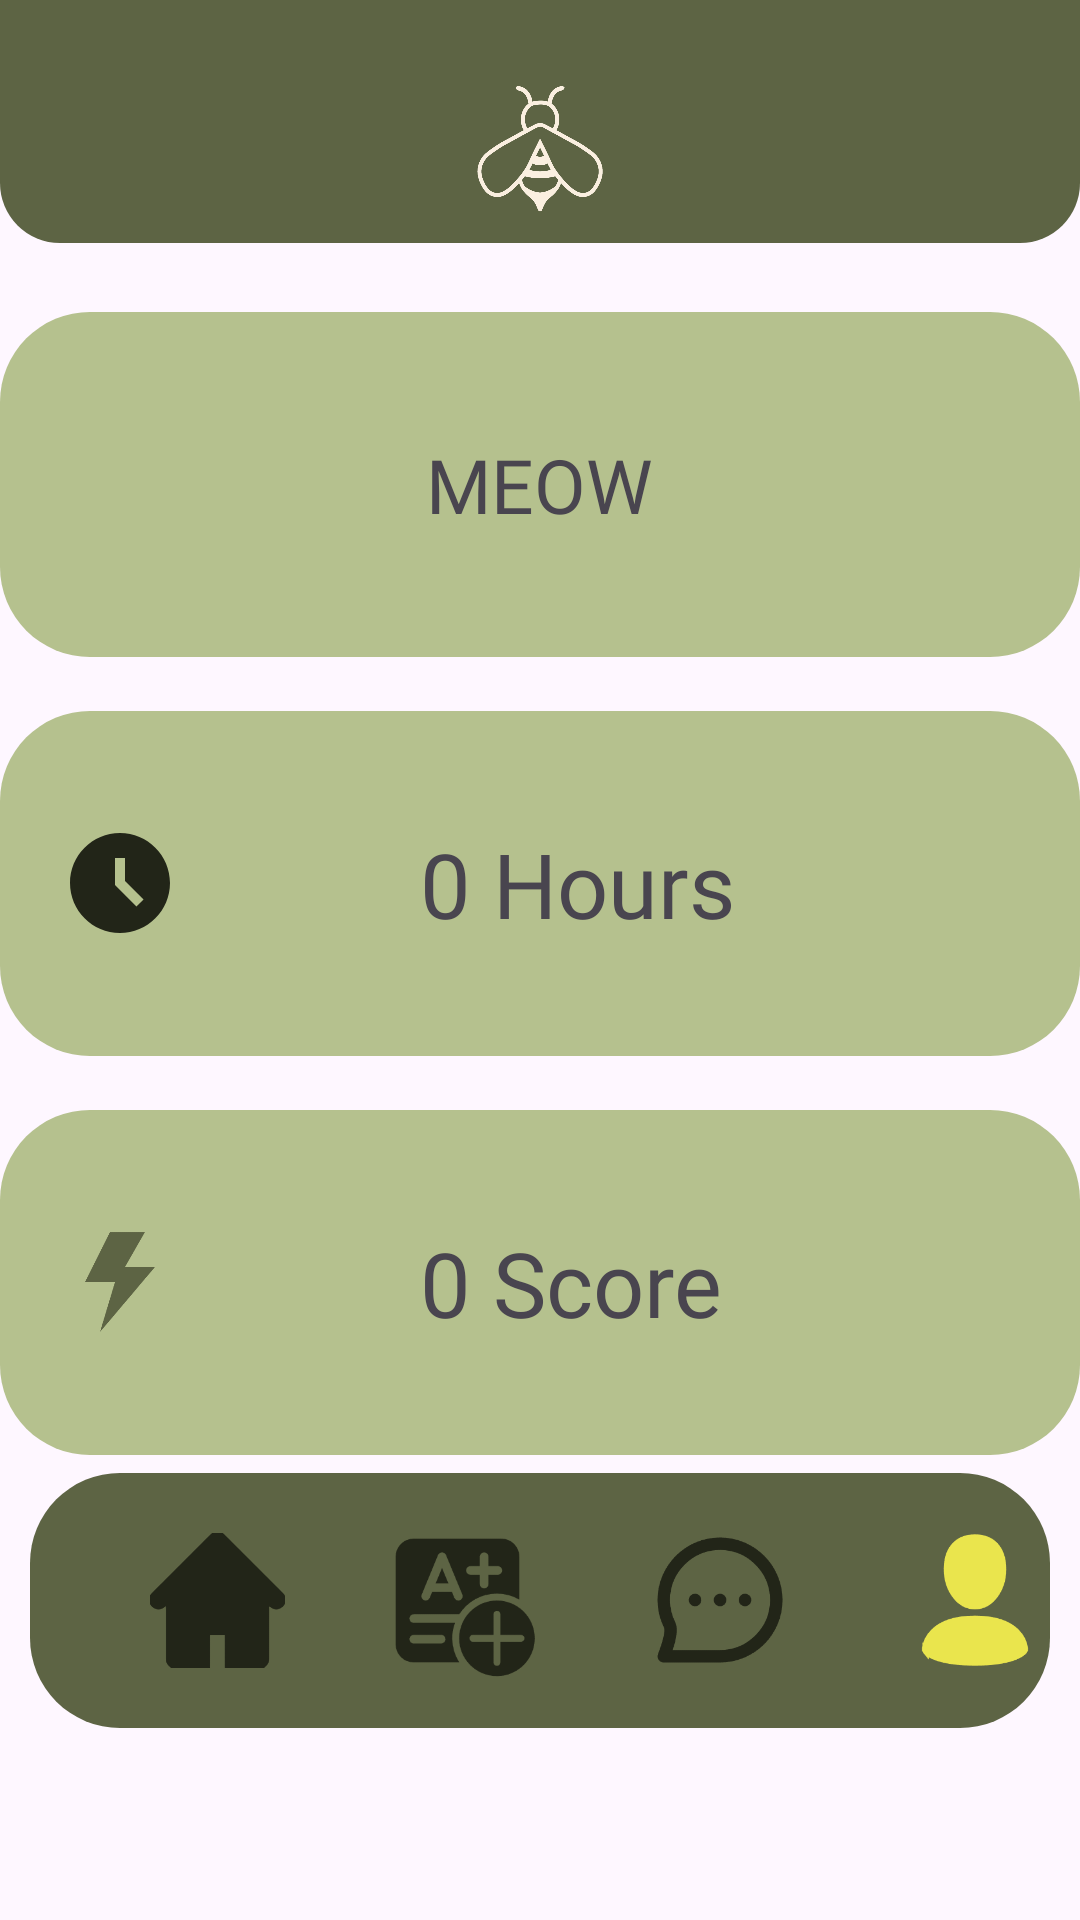

Icon bounding boxes for this 1080 × 1920 phone screenshot, format region(x1, y1, x2, y2):
energy darkgreen: region(85, 1232, 155, 1331)
home: region(150, 1533, 285, 1668)
messages: region(657, 1537, 783, 1663)
profile: region(922, 1534, 1028, 1666)
quiz: region(396, 1539, 535, 1676)
time: region(70, 833, 170, 933)
